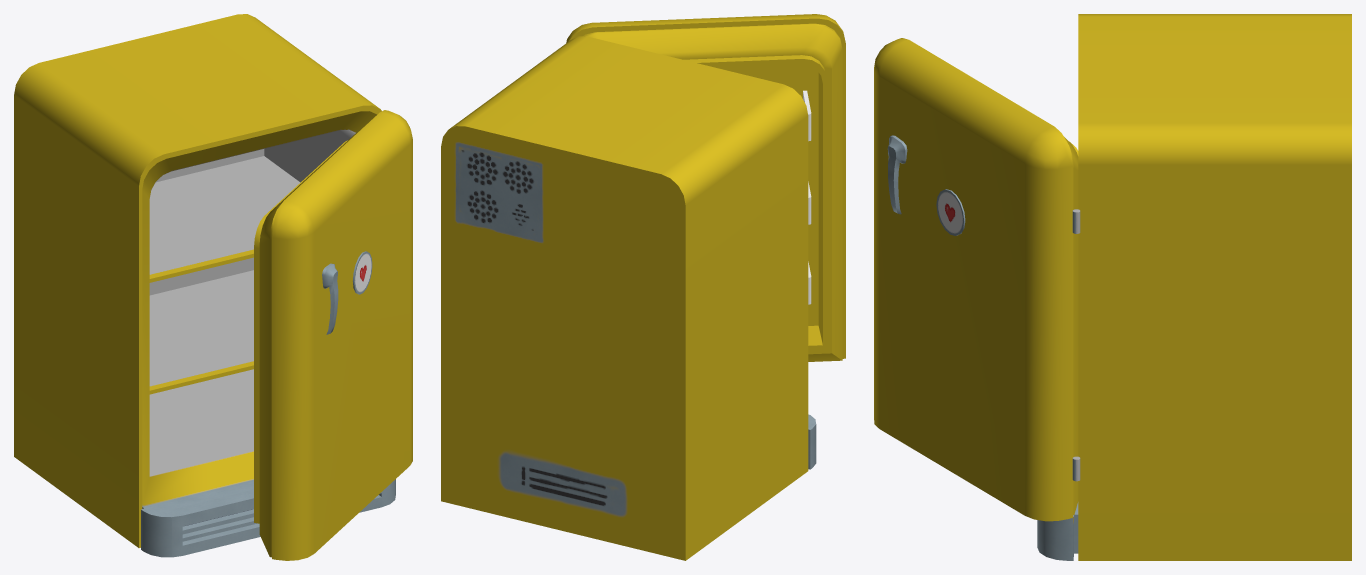
The model's file is fridge.glb.
3 views of the same model, side by side, from view 1: azimuth 30°, elevation 25°; view 2: azimuth 150°, elevation 25°; view 3: azimuth 270°, elevation 25° (orthographic). The views are drawn at different scales.
Visible parts, largest first — view 1: polySurface1, polySurface16; view 2: polySurface1, polySurface16; view 3: polySurface1, polySurface16.
Part boxes in pixels (x1,y1,x2,y2): polySurface1: (14, 14, 395, 557); polySurface16: (254, 110, 412, 560); polySurface1: (441, 36, 816, 560); polySurface16: (566, 14, 845, 361); polySurface1: (1037, 14, 1351, 560); polySurface16: (874, 38, 1080, 521).
Size of the model in its own units: 13.5 by 19.46 by 19.86.
2 materials, 2 textured.
